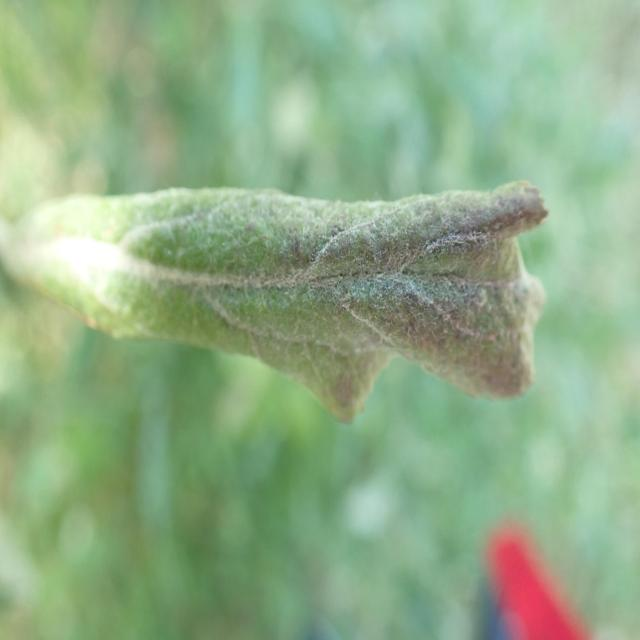Powdery_mildew: (0, 142, 568, 442)
